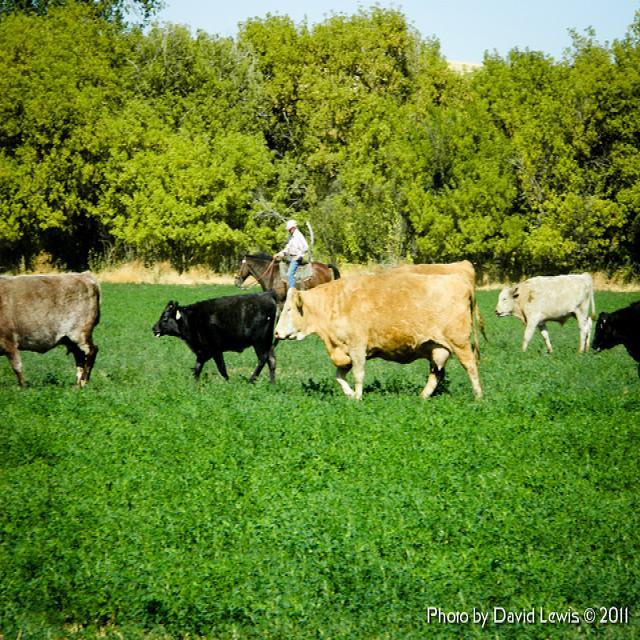cow: (274, 268, 487, 403), (147, 287, 282, 383), (1, 267, 102, 388), (493, 271, 596, 351), (591, 298, 638, 378), (390, 260, 474, 288)
